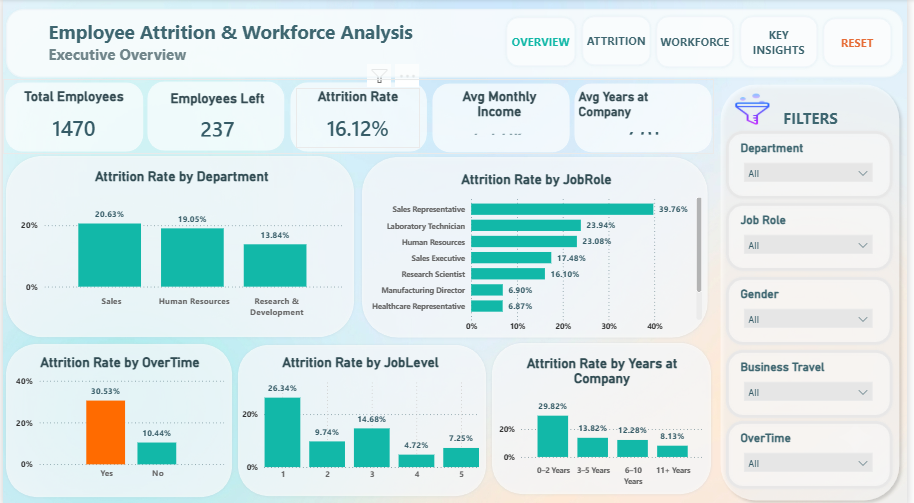

This screenshot's page, from the dashboard's own definition file:
{"tool":"powerbi","page":{"name":"Employee Overview","canvas":[1280,720],"ordinal":0},"visuals":[{"type":"shape","box":[0,10,1280,105.8],"z":0,"group":"g9"},{"type":"shape","box":[201.7,113.4,201,105],"z":0,"group":"g5"},{"type":"shape","box":[0,114.8,202.2,105],"z":0,"group":"g3"},{"type":"shape","box":[403.3,114.8,200.1,105],"z":0,"group":"g7"},{"type":"shape","box":[605,116.3,201.4,104.4],"z":0,"group":"g10"},{"type":"shape","box":[806.6,116.3,201.4,104.4],"z":0,"group":"g12"},{"type":"shape","box":[0,218.3,501.7,265],"z":0,"group":"g13"},{"type":"shape","box":[504.6,219.7,498.4,264.6],"z":0,"group":"g14"},{"type":"shape","box":[688.8,483.3,318.9,222.5],"z":0,"group":"g8"},{"type":"group","id":"g1","title":"Group 3","box":[0,484.7,328.8,225.4],"z":0},{"type":"shape","box":[0,484.7,328.8,225.4],"z":0,"group":"g1"},{"type":"shape","box":[328.8,486.1,360,222.5],"z":0,"group":"g6"},{"type":"shape","box":[709.4,21.6,107.3,78.7],"z":1000,"group":"g20"},{"type":"shape","box":[1008.3,111.6,271.7,607.8],"z":1000,"group":"g11"},{"type":"group","id":"g2","title":"Group 5","box":[0,113.4,1007.7,106.3],"z":1000},{"type":"cardVisual","title":"Avg Monthly Income","fields":{"Data":["employee_attrition.Average Monthly Income"]},"box":[606.5,126,194.2,83.6],"z":1000,"group":"g10"},{"type":"cardVisual","title":"Total Employees","fields":{"Data":["employee_attrition.Total Employees"]},"box":[11.3,126.5,178.6,85],"z":1000,"group":"g3"},{"type":"cardVisual","title":"Attrition Rate","fields":{"Data":["employee_attrition.Attrition Rate"]},"box":[414.2,126.5,175.7,85],"z":1000,"group":"g7"},{"type":"cardVisual","title":"Avg Years at Company","fields":{"Data":["employee_attrition.Average Years at Company"]},"box":[811.4,127.5,190.2,82.9],"z":1000,"group":"g12"},{"type":"cardVisual","title":"Employees Left","fields":{"Data":["employee_attrition.Employees Left"]},"box":[217.8,128.6,174.3,83.6],"z":1000,"group":"g5"},{"type":"clusteredColumnChart","fields":{"Category":["employee_attrition.Department"],"Y":["employee_attrition.Attrition Rate"]},"box":[19.2,239.8,467.1,219.2],"z":1000,"group":"g13"},{"type":"clusteredBarChart","fields":{"Category":["employee_attrition.JobRole"],"Y":["employee_attrition.Attrition Rate"]},"box":[522.2,243.4,469.1,233.9],"z":1000,"group":"g14"},{"type":"clusteredColumnChart","fields":{"Y":["employee_attrition.Attrition Rate"],"Category":["employee_attrition.OverTime"]},"box":[12.6,503,306.1,186.4],"z":1000,"group":"g1"},{"type":"clusteredColumnChart","fields":{"Y":["employee_attrition.Attrition Rate"],"Category":["employee_attrition.JobLevel"]},"box":[338.6,503.5,335.9,184.3],"z":1000,"group":"g6"},{"type":"clusteredColumnChart","title":"Attrition Rate by Years at Company","fields":{"Y":["employee_attrition.Attrition Rate"],"Category":["employee_attrition.Tenure Group"]},"box":[703.2,504.1,292,188.5],"z":1000,"group":"g8"},{"type":"textbox","box":[60.1,22.9,536.3,77.2],"z":2000,"group":"g9"},{"type":"group","id":"g3","title":"Group 1","box":[0,114.8,202.2,105],"z":2000,"group":"g2"},{"type":"group","id":"g4","title":"Group 6","box":[0,218.3,1003.5,266.5],"z":2000},{"type":"shape","box":[816.7,20.2,105.8,78.7],"z":3000,"group":"g20"},{"type":"group","id":"g5","title":"Group 1","box":[201.7,113.4,201,105],"z":3000,"group":"g2"},{"type":"group","id":"g6","title":"Group 3","box":[328.8,486.1,360,222.5],"z":3000},{"type":"shape","box":[1158.5,22.9,105.8,77.2],"z":4000,"group":"g20"},{"type":"group","id":"g7","title":"Group 1","box":[403.3,114.8,200.1,105],"z":4000,"group":"g2"},{"type":"group","id":"g8","title":"Group 3","box":[688.8,483.3,318.9,222.5],"z":4000},{"type":"group","id":"g9","title":"Group 4","box":[0,10,1280,105.8],"z":5000},{"type":"shape","box":[922.5,20,118.7,81.5],"z":5000,"group":"g20"},{"type":"group","id":"g10","title":"Group 1","box":[605,116.3,201.4,104.4],"z":5000,"group":"g2"},{"type":"shape","box":[1021.2,183.1,244.6,104.4],"z":5500,"group":"g15"},{"type":"shape","box":[1021.2,284.7,244.6,104.4],"z":5500,"group":"g16"},{"type":"shape","box":[1021.2,389.1,244.6,104.4],"z":5500,"group":"g17"},{"type":"shape","box":[1021.2,493.5,244.6,104.4],"z":5500,"group":"g18"},{"type":"shape","box":[1021.2,593.6,244.6,104.4],"z":5500,"group":"g19"},{"type":"shape","box":[1041.2,20,118.7,81.5],"z":6000,"group":"g20"},{"type":"group","id":"g11","title":"Group 8","box":[1008.3,111.6,271.7,607.8],"z":6000},{"type":"group","id":"g12","title":"Group 1","box":[806.6,116.3,201.4,104.4],"z":6000,"group":"g2"},{"type":"slicer","title":"Department","fields":{"Values":["employee_attrition.Department"]},"box":[1040.8,200.8,201.7,66.6],"z":8000,"group":"g15"},{"type":"group","id":"g13","title":"Group 3","box":[0,218.3,501.7,265],"z":8000,"group":"g4"},{"type":"slicer","title":"Job Role","fields":{"Values":["employee_attrition.JobRole"]},"box":[1040.8,302.4,201.7,66.6],"z":8000,"group":"g16"},{"type":"slicer","title":"Gender","fields":{"Values":["employee_attrition.Gender"]},"box":[1040.8,406.8,201.7,66.6],"z":8000,"group":"g17"},{"type":"slicer","title":"Business Travel","fields":{"Values":["employee_attrition.BusinessTravel"]},"box":[1040.8,511.2,201.7,66.6],"z":8000,"group":"g18"},{"type":"slicer","title":"OverTime","fields":{"Values":["employee_attrition.OverTime"]},"box":[1040.8,611.3,201.7,66.6],"z":8000,"group":"g19"},{"type":"image","box":[1019.1,129,86.5,53.9],"z":9000,"group":"g11"},{"type":"group","id":"g14","title":"Group 3","box":[504.6,219.7,498.4,264.6],"z":9000,"group":"g4"},{"type":"textbox","box":[1036.1,147.9,217,42.7],"z":10000,"group":"g11"},{"type":"group","id":"g15","title":"Group 7","box":[1021.2,183.1,244.6,104.4],"z":11000,"group":"g11"},{"type":"group","id":"g16","title":"Group 7","box":[1021.2,284.7,244.6,104.4],"z":12000,"group":"g11"},{"type":"group","id":"g17","title":"Group 7","box":[1021.2,389.1,244.6,104.4],"z":13000,"group":"g11"},{"type":"group","id":"g18","title":"Group 7","box":[1021.2,493.5,244.6,104.4],"z":14000,"group":"g11"},{"type":"group","id":"g19","title":"Group 7","box":[1021.2,593.6,244.6,104.4],"z":15000,"group":"g11"},{"type":"group","id":"g20","title":"Group 2","box":[709.4,20,554.9,81.5],"z":15001,"group":"g9"}]}

Visuals, with their boxes in screenshot pixels (x1, y1, x2, y2), scaled from the page's 1280x720 canvas onto the 914x503 screenshot:
shape: {"x1": 0, "y1": 7, "x2": 913, "y2": 81}
shape: {"x1": 144, "y1": 79, "x2": 288, "y2": 153}
shape: {"x1": 0, "y1": 80, "x2": 144, "y2": 154}
shape: {"x1": 288, "y1": 80, "x2": 431, "y2": 154}
shape: {"x1": 432, "y1": 81, "x2": 576, "y2": 154}
shape: {"x1": 576, "y1": 81, "x2": 720, "y2": 154}
shape: {"x1": 0, "y1": 153, "x2": 358, "y2": 338}
shape: {"x1": 360, "y1": 153, "x2": 716, "y2": 338}
shape: {"x1": 492, "y1": 338, "x2": 720, "y2": 493}
"Group 3" group: {"x1": 0, "y1": 339, "x2": 235, "y2": 496}
shape: {"x1": 0, "y1": 339, "x2": 235, "y2": 496}
shape: {"x1": 235, "y1": 340, "x2": 492, "y2": 495}
shape: {"x1": 507, "y1": 15, "x2": 583, "y2": 70}
shape: {"x1": 720, "y1": 78, "x2": 913, "y2": 502}
"Group 5" group: {"x1": 0, "y1": 79, "x2": 720, "y2": 153}
"Avg Monthly Income" cardVisual: {"x1": 433, "y1": 88, "x2": 572, "y2": 146}
"Total Employees" cardVisual: {"x1": 8, "y1": 88, "x2": 136, "y2": 148}
"Attrition Rate" cardVisual: {"x1": 296, "y1": 88, "x2": 421, "y2": 148}
"Avg Years at Company" cardVisual: {"x1": 579, "y1": 89, "x2": 715, "y2": 147}
"Employees Left" cardVisual: {"x1": 156, "y1": 90, "x2": 280, "y2": 148}
clusteredColumnChart - employee_attrition.Department x employee_attrition.Attrition Rate: {"x1": 14, "y1": 168, "x2": 347, "y2": 321}
clusteredBarChart - employee_attrition.JobRole x employee_attrition.Attrition Rate: {"x1": 373, "y1": 170, "x2": 708, "y2": 333}
clusteredColumnChart - employee_attrition.Attrition Rate x employee_attrition.OverTime: {"x1": 9, "y1": 351, "x2": 228, "y2": 482}
clusteredColumnChart - employee_attrition.Attrition Rate x employee_attrition.JobLevel: {"x1": 242, "y1": 352, "x2": 482, "y2": 481}
"Attrition Rate by Years at Company" clusteredColumnChart: {"x1": 502, "y1": 352, "x2": 711, "y2": 484}
textbox: {"x1": 43, "y1": 16, "x2": 426, "y2": 70}
"Group 1" group: {"x1": 0, "y1": 80, "x2": 144, "y2": 154}
"Group 6" group: {"x1": 0, "y1": 153, "x2": 717, "y2": 339}
shape: {"x1": 583, "y1": 14, "x2": 659, "y2": 69}
"Group 1" group: {"x1": 144, "y1": 79, "x2": 288, "y2": 153}
"Group 3" group: {"x1": 235, "y1": 340, "x2": 492, "y2": 495}
shape: {"x1": 827, "y1": 16, "x2": 903, "y2": 70}
"Group 1" group: {"x1": 288, "y1": 80, "x2": 431, "y2": 154}
"Group 3" group: {"x1": 492, "y1": 338, "x2": 720, "y2": 493}
"Group 4" group: {"x1": 0, "y1": 7, "x2": 913, "y2": 81}
shape: {"x1": 659, "y1": 14, "x2": 743, "y2": 71}
"Group 1" group: {"x1": 432, "y1": 81, "x2": 576, "y2": 154}
shape: {"x1": 729, "y1": 128, "x2": 904, "y2": 201}
shape: {"x1": 729, "y1": 199, "x2": 904, "y2": 272}
shape: {"x1": 729, "y1": 272, "x2": 904, "y2": 345}
shape: {"x1": 729, "y1": 345, "x2": 904, "y2": 418}
shape: {"x1": 729, "y1": 415, "x2": 904, "y2": 488}
shape: {"x1": 743, "y1": 14, "x2": 828, "y2": 71}
"Group 8" group: {"x1": 720, "y1": 78, "x2": 913, "y2": 502}
"Group 1" group: {"x1": 576, "y1": 81, "x2": 720, "y2": 154}
"Department" slicer: {"x1": 743, "y1": 140, "x2": 887, "y2": 187}
"Group 3" group: {"x1": 0, "y1": 153, "x2": 358, "y2": 338}
"Job Role" slicer: {"x1": 743, "y1": 211, "x2": 887, "y2": 258}
"Gender" slicer: {"x1": 743, "y1": 284, "x2": 887, "y2": 331}
"Business Travel" slicer: {"x1": 743, "y1": 357, "x2": 887, "y2": 404}
"OverTime" slicer: {"x1": 743, "y1": 427, "x2": 887, "y2": 474}
image: {"x1": 728, "y1": 90, "x2": 789, "y2": 128}
"Group 3" group: {"x1": 360, "y1": 153, "x2": 716, "y2": 338}
textbox: {"x1": 740, "y1": 103, "x2": 895, "y2": 133}
"Group 7" group: {"x1": 729, "y1": 128, "x2": 904, "y2": 201}
"Group 7" group: {"x1": 729, "y1": 199, "x2": 904, "y2": 272}
"Group 7" group: {"x1": 729, "y1": 272, "x2": 904, "y2": 345}
"Group 7" group: {"x1": 729, "y1": 345, "x2": 904, "y2": 418}
"Group 7" group: {"x1": 729, "y1": 415, "x2": 904, "y2": 488}
"Group 2" group: {"x1": 507, "y1": 14, "x2": 903, "y2": 71}
